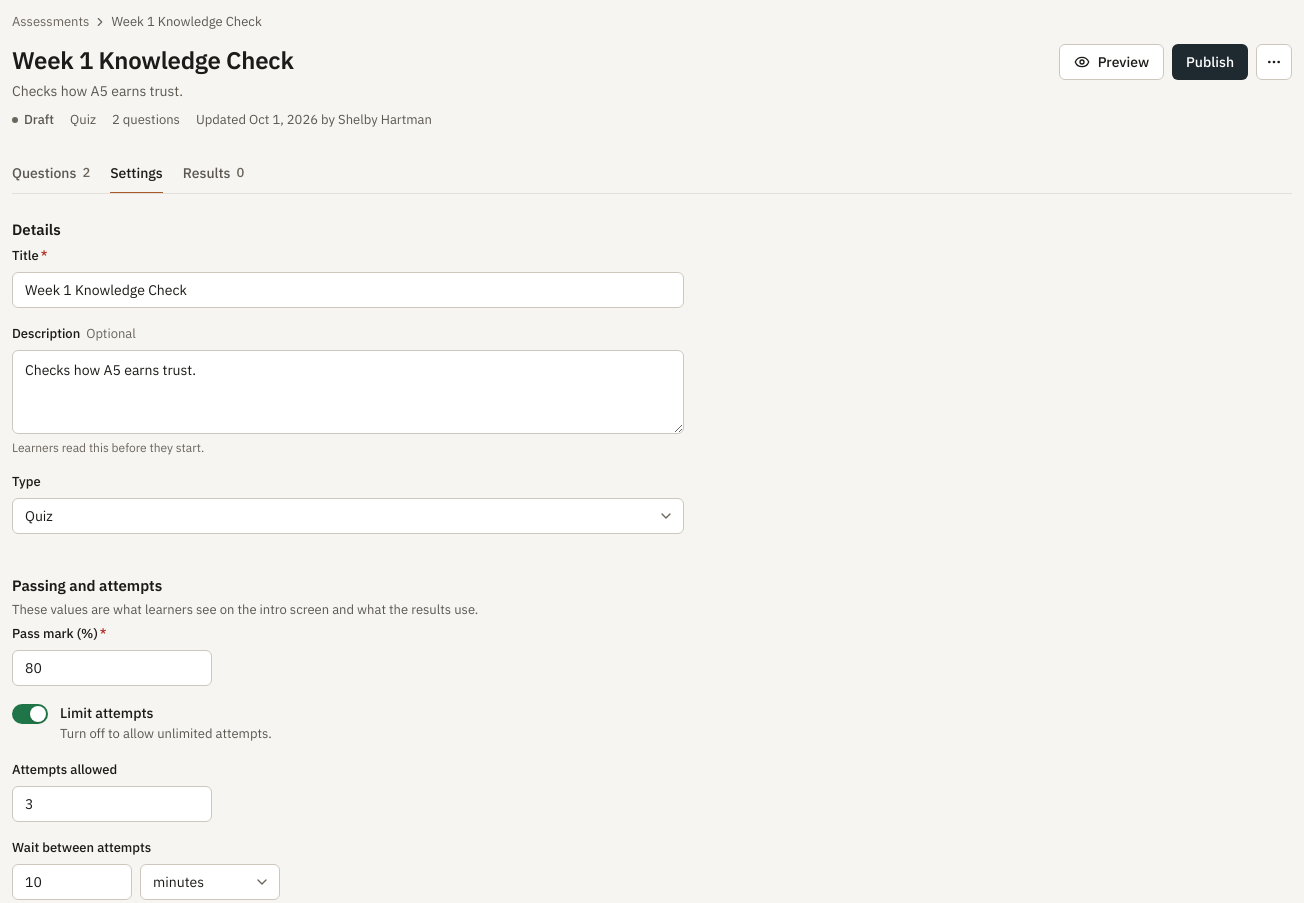
Test: AssessmentBuilderPage › settings › rejects a pass mark above 100 next to the field
Replace the text in the number field labelled "Pass mark (%)*" with "120" at (112, 668), box [12, 650, 212, 686]
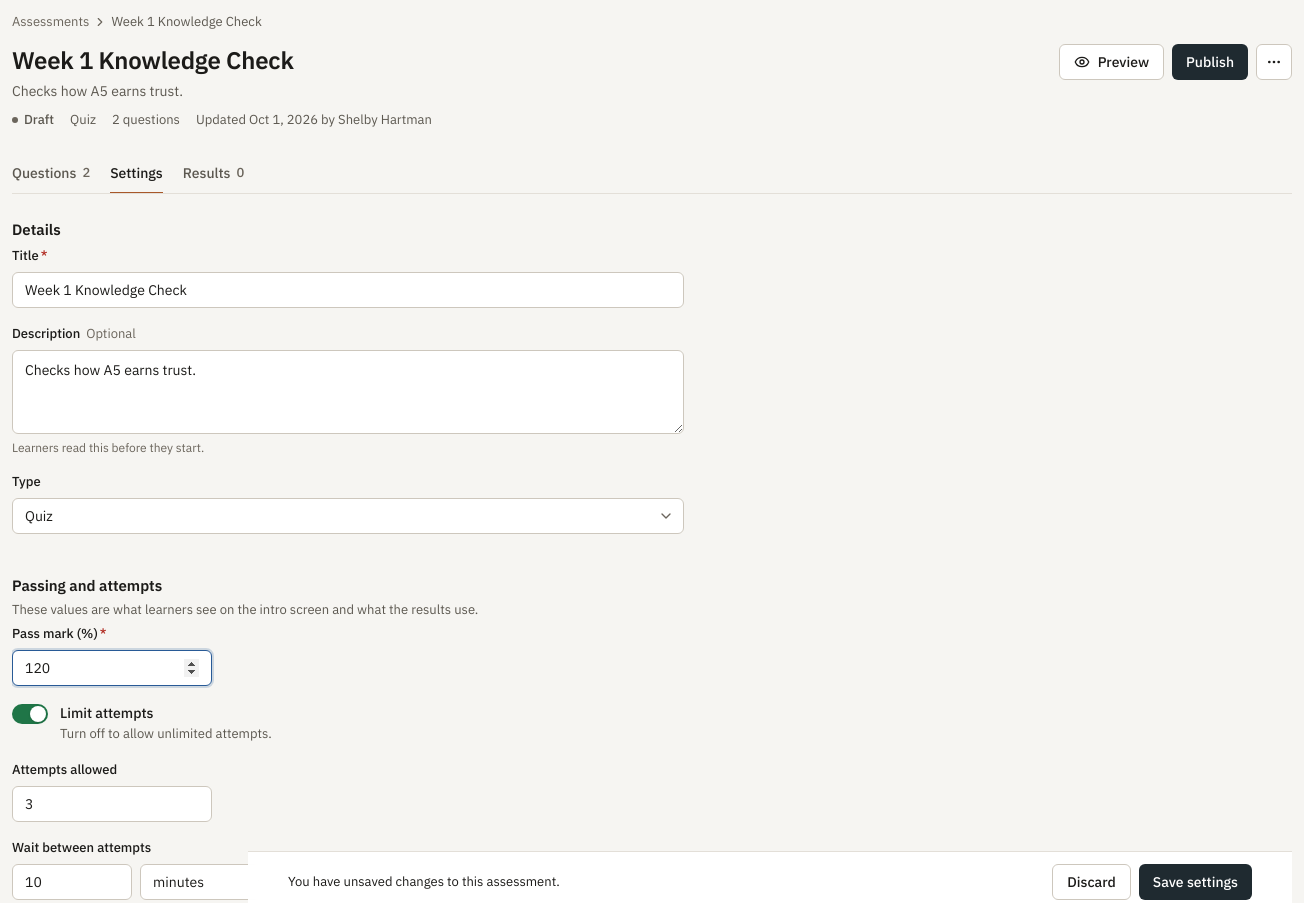
Click the button "Save settings".
click(1195, 882)  # box [1139, 864, 1252, 900]
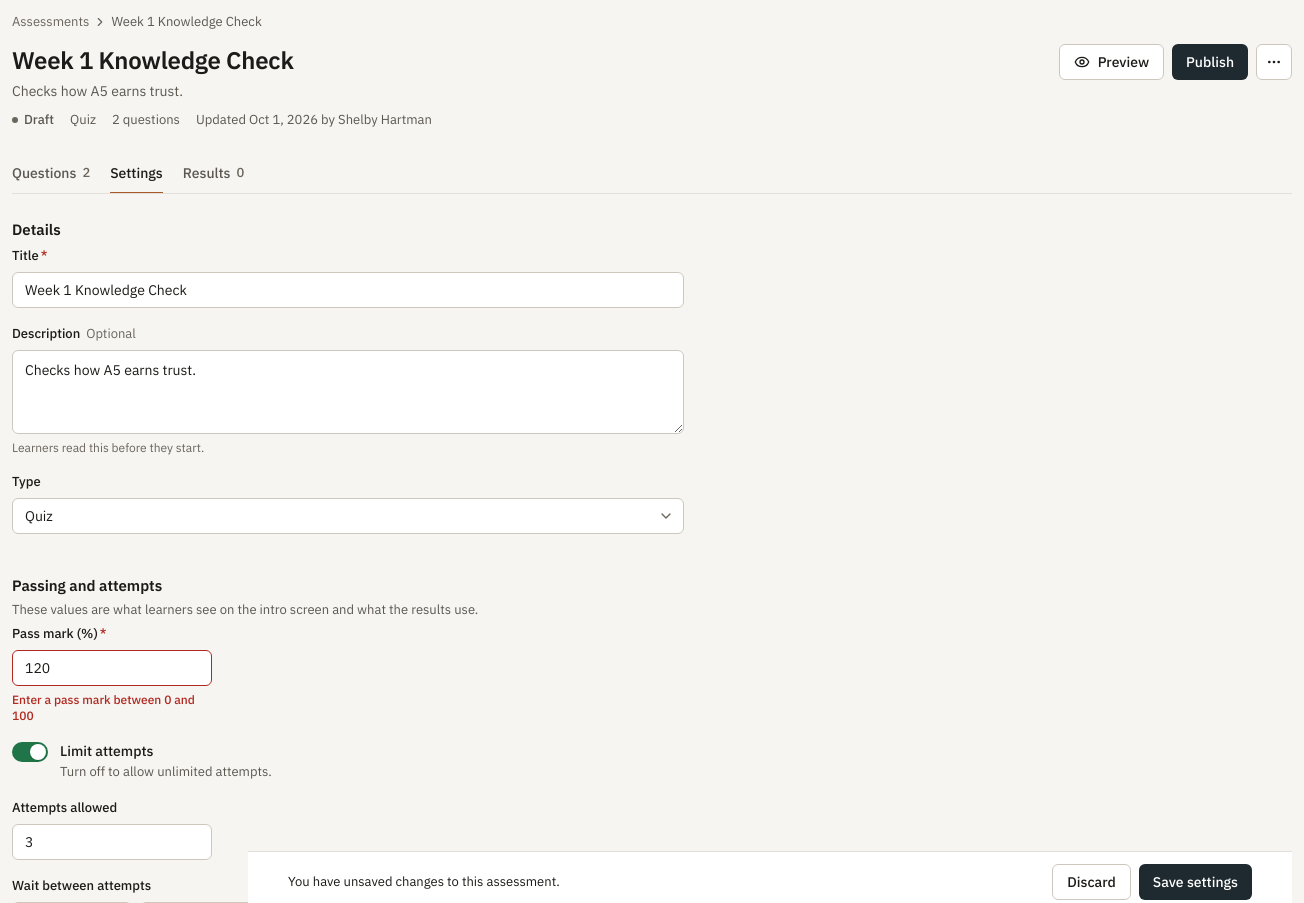
Check: the text "Enter a pass mark between 0 and 100" is shown, box [12, 692, 212, 724]
